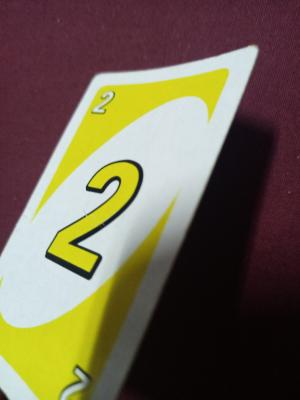num_2: (40, 155, 151, 321), (90, 81, 122, 128)
yellow: (40, 339, 108, 400)
